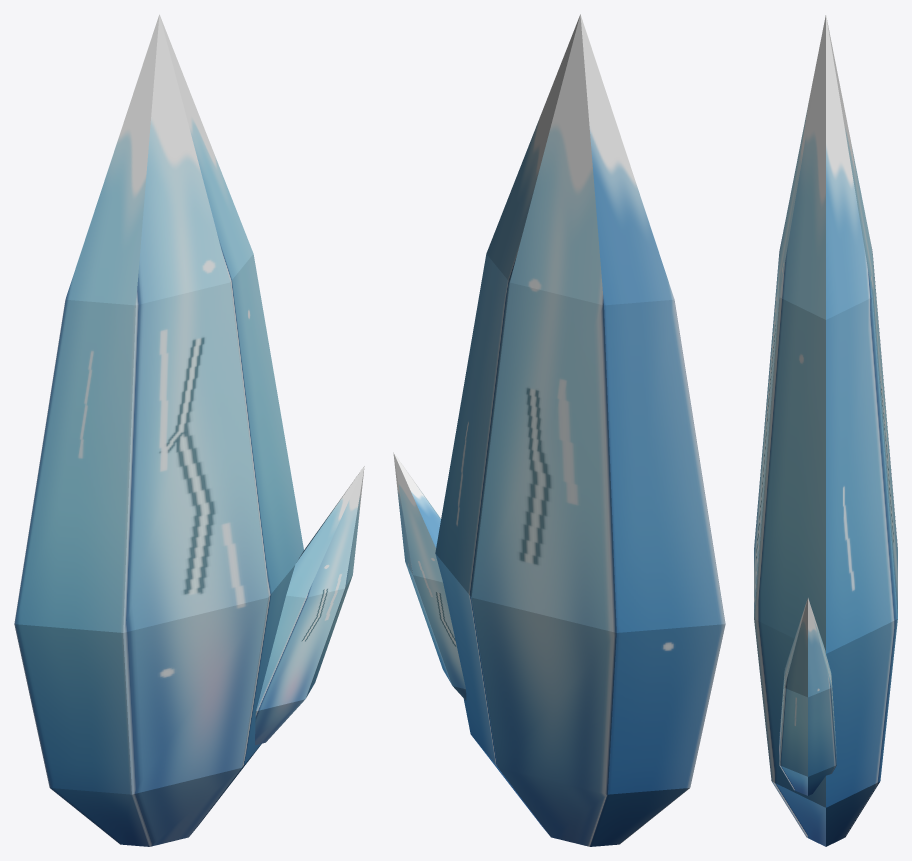
File: lotuspetal_b.glb
The picture shows the model from 3 angles, left to right: view 1: azimuth 30°, elevation 25°; view 2: azimuth 150°, elevation 25°; view 3: azimuth 270°, elevation 25°; orthographic projection.
Parts seen in each view (by area): view 1: petal; view 2: petal; view 3: petal.
Boxes of the visible parts, left/top/right/bottom form: petal: left=14, top=14, right=364, bottom=846; petal: left=393, top=14, right=725, bottom=846; petal: left=754, top=15, right=897, bottom=846.
Size of the model in its own units: 0.435 by 1 by 0.1602.
1 material, 1 textured.
